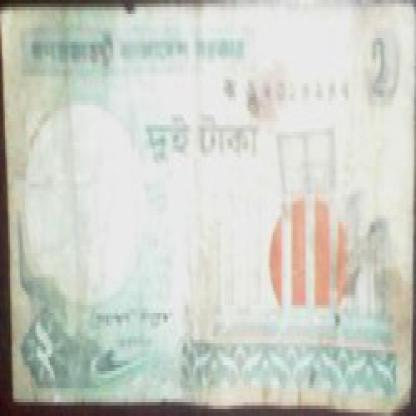two taka: (140, 108, 274, 166), (30, 319, 72, 409), (352, 42, 398, 97)
